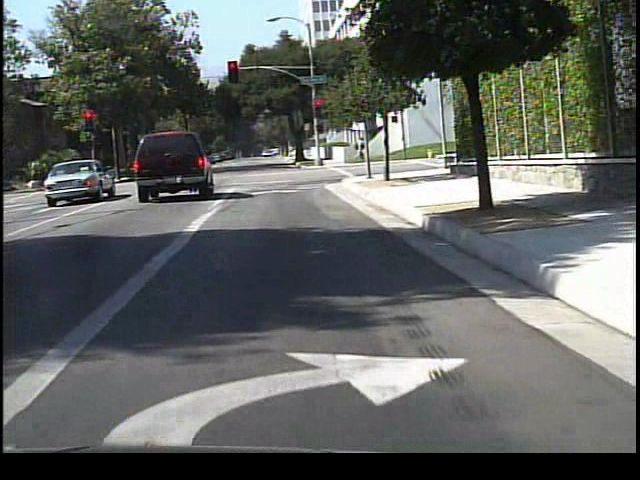person: (349, 137, 366, 168)
